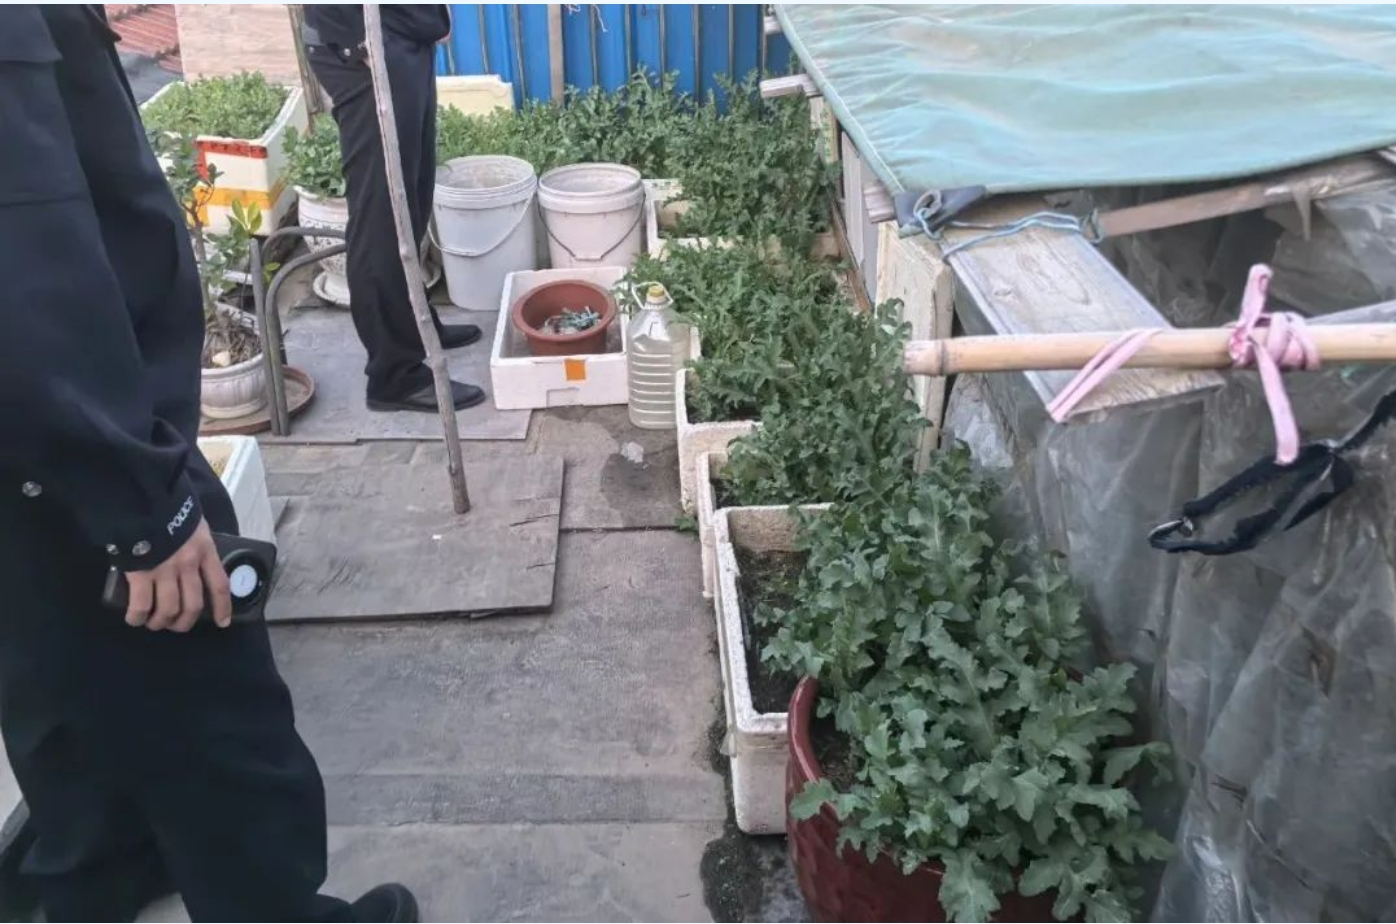Poppy: (621, 236, 1184, 912), (524, 63, 845, 234)
